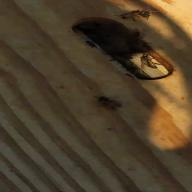Bee: (127, 8, 161, 26), (142, 51, 162, 70)
